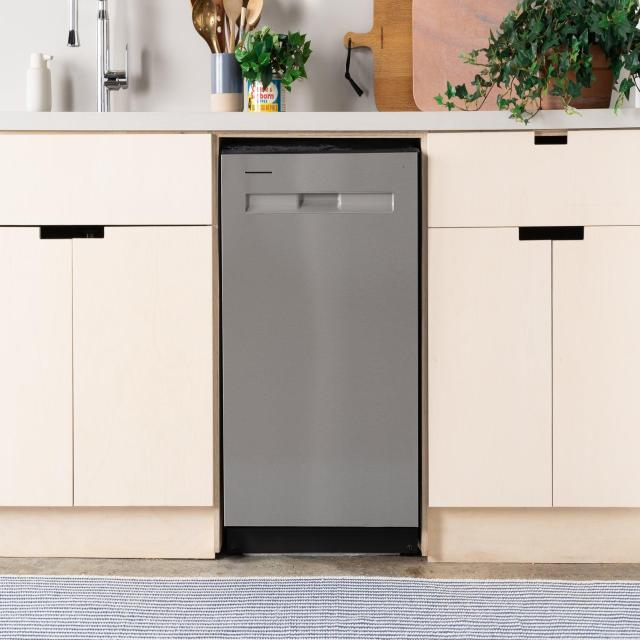dishwasher: (213, 138, 427, 554)
